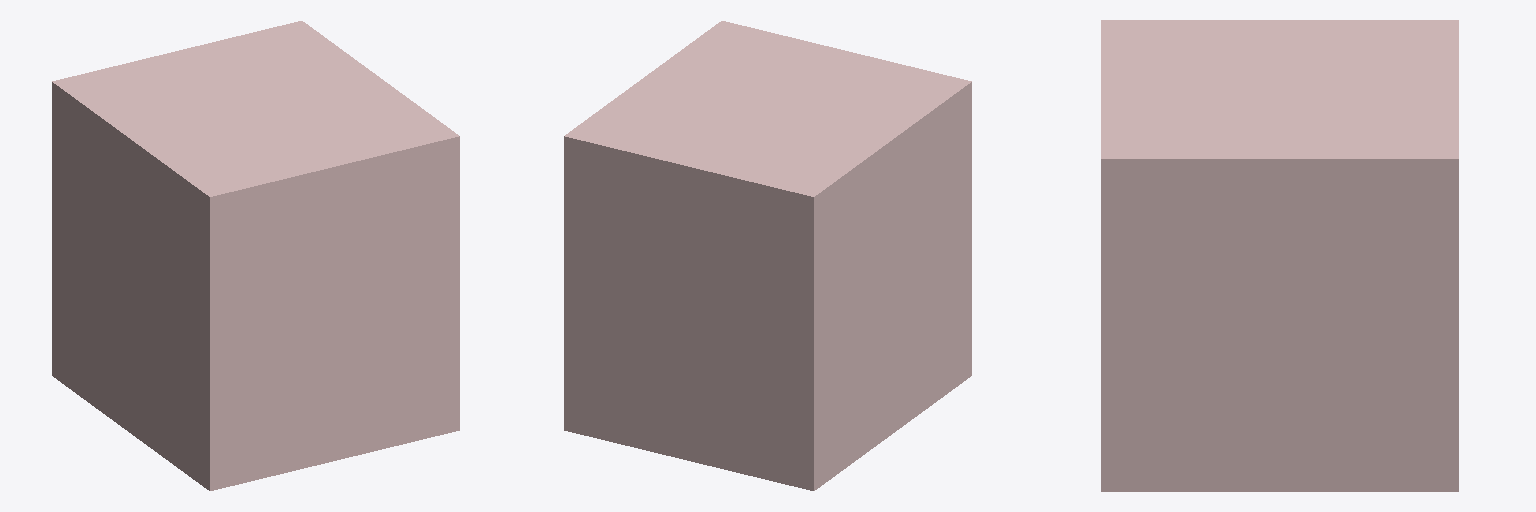
URDF robot description (box.urdf):
<?xml version="1.0" ?>
<robot name="box.urdf">
  <link name="baseLink">
    <contact>
      <lateral_friction value="1.0"/>
      <rolling_friction value="0.0001"/>
      <inertia_scaling value="3.0"/>
    </contact>
    <inertial>
      <origin rpy="0 0 0" xyz="0 0 0"/>
       <mass value="0.1"/>
       <inertia ixx="1" ixy="0" ixz="0" iyy="1" iyz="0" izz="1"/>
    </inertial>
    <visual>
      <origin rpy="0 0 0" xyz="0 0 0"/>
      <geometry>
        <!-- <box size="0.17 0.18600000000000003 0.191"/> -->
        <mesh filename="box/box.obj" scale="0.17 0.18600000000000003 0.191"/>
      </geometry>
      <material name="white">
        <color rgba="0.9 0.8 0.8 1"/>
      </material>
    </visual>
    <collision>
      <origin rpy="0 0 0" xyz="0 0 0"/>
      <geometry>
        <mesh filename="box/box.obj" scale="0.17 0.18600000000000003 0.191"/>
	 	    <!-- <box size="0.17 0.18600000000000003 0.191"/> -->
      </geometry>
    </collision>
  </link>
</robot>

--- Render facts (derived) ---
The picture shows the robot from 3 angles, left to right: view 1: azimuth 30°, elevation 25°; view 2: azimuth 150°, elevation 25°; view 3: azimuth 270°, elevation 25°; orthographic projection.
Robot: box.urdf — 1 links, 0 joints (none); root link baseLink; default pose: every joint at zero.
Visible links, largest first — view 1: baseLink; view 2: baseLink; view 3: baseLink.
Boxes of the visible links, <box> form: baseLink: <box>52,21,459,490</box>; baseLink: <box>564,21,971,490</box>; baseLink: <box>1101,20,1458,491</box>.
Bounding box of the posed robot: 0.17 × 0.186 × 0.191 m (x, y, z).
1 mesh visuals loaded from 1 distinct referenced files (1 OBJ).
